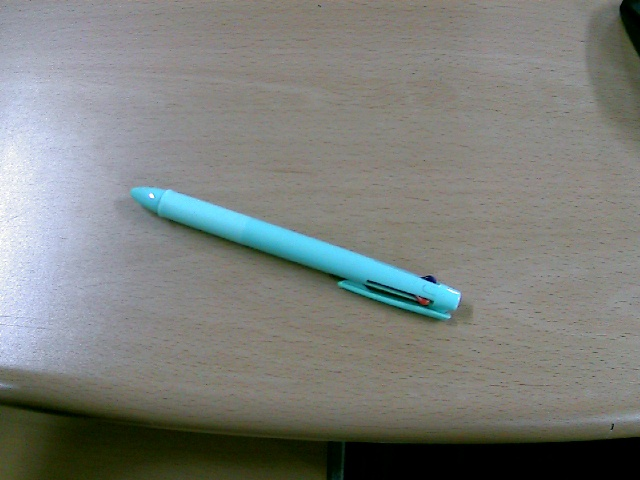pen: (120, 171, 480, 335)
